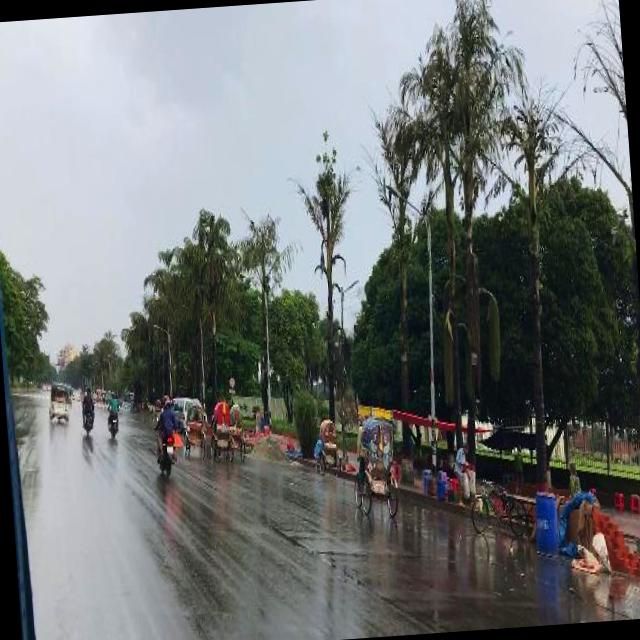car: (72, 384, 81, 398)
motorcycle: (348, 409, 401, 517), (153, 394, 180, 476), (207, 395, 236, 463), (313, 417, 343, 474), (187, 396, 208, 456), (46, 378, 72, 422), (232, 398, 248, 462), (105, 389, 122, 440), (81, 386, 97, 435), (154, 397, 162, 417)
truck: (173, 395, 188, 430)
